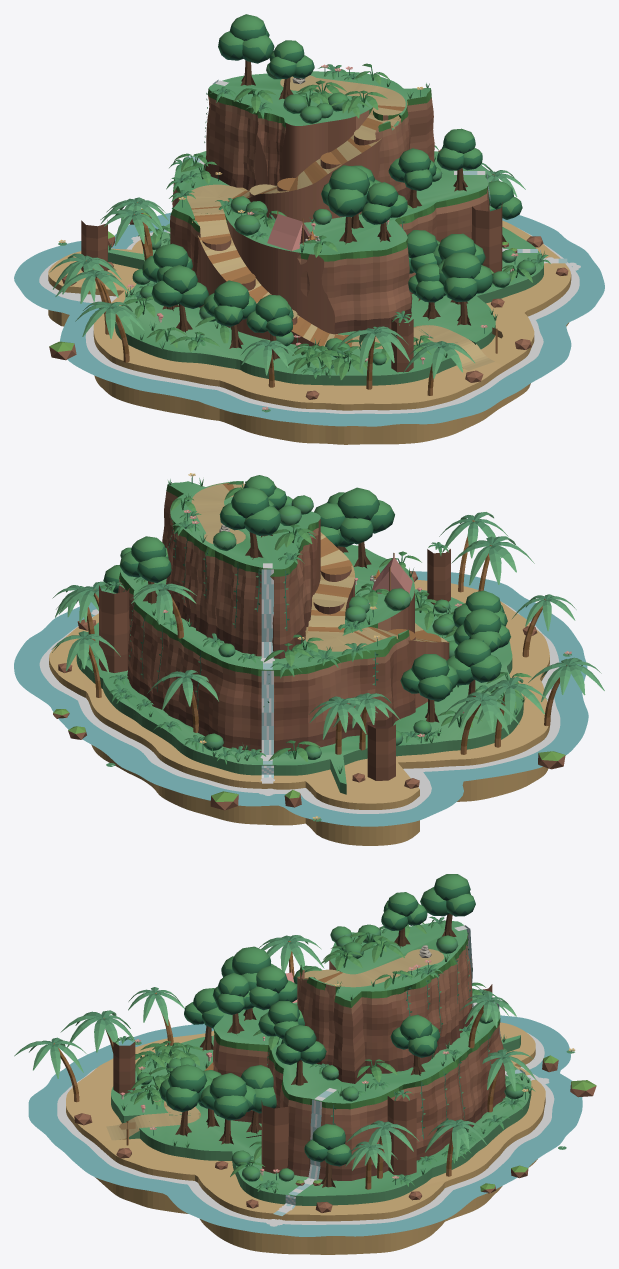
Rendered from JungleIsland.glb.
The picture shows the model from 3 angles, top to bottom: view 1: azimuth 30°, elevation 25°; view 2: azimuth 150°, elevation 25°; view 3: azimuth 270°, elevation 25°; orthographic projection. The views are drawn at different scales.
Visible parts, largest first — view 1: Lit, Unlit; view 2: Lit, Unlit; view 3: Lit, Unlit.
Part boxes in pixels (x1,y1,x2,y2): Lit: (48,14,571,444); Unlit: (14,79,604,426); Lit: (49,473,604,845); Unlit: (14,563,588,826); Lit: (14,874,596,1254); Unlit: (28,925,582,1236).
Bounding box in the file's own units: 6.55 × 3.33 × 6.62.
